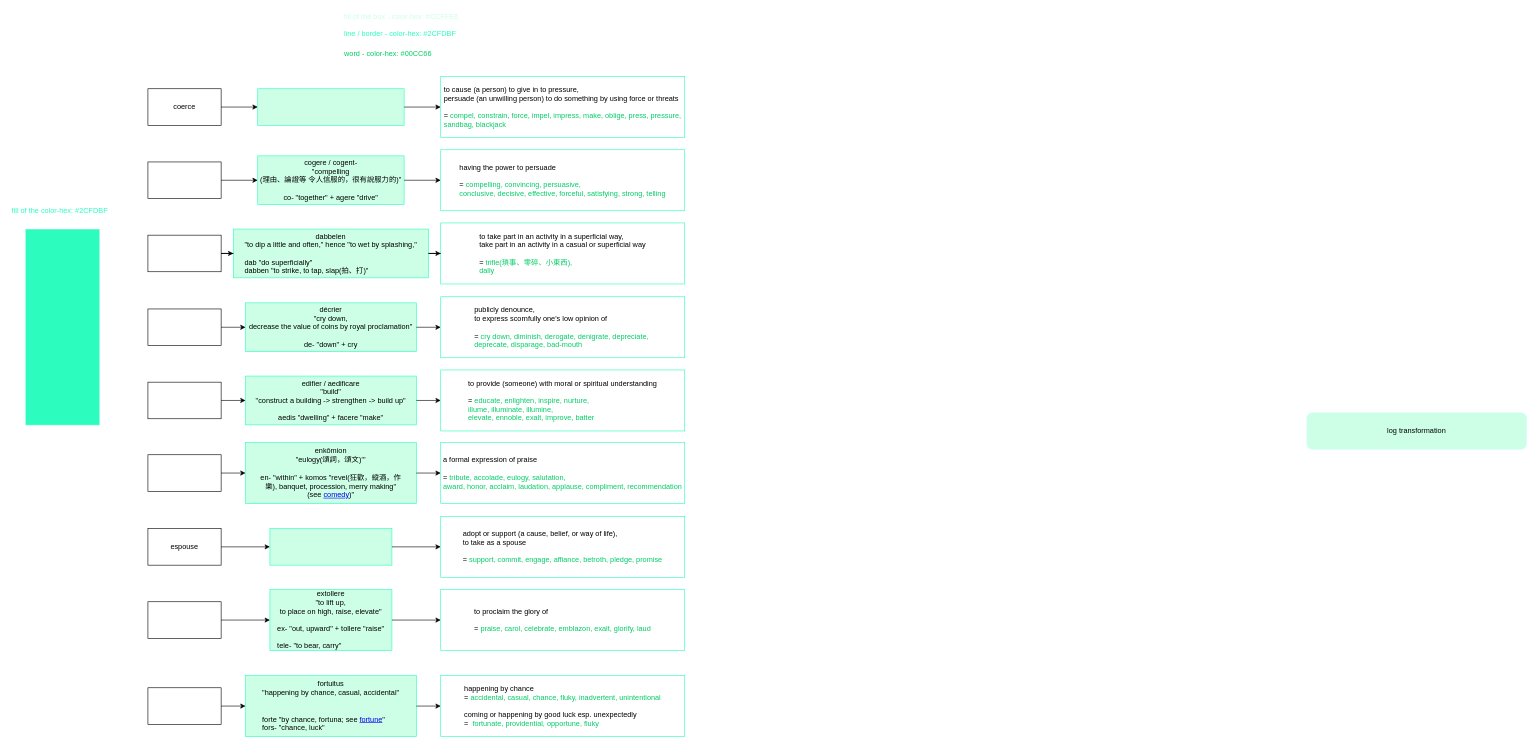
Image size: 1537x747. Some labels were removed from this diagram. The shapes that lost their labels are listed below. From the top down, each one's box as (x1, y1, x2, y2) in pixels, then its label:
(257, 88, 404, 125): coercere "restrain" co- "together" + arcere "restrain(阻止)"
(147, 161, 221, 199): cogent
(147, 235, 221, 272): dabble
(25, 229, 99, 425): p.33 coerce cogent dabble decry edify encomium espouse extol fortuitous
(147, 308, 221, 346): decry
(147, 382, 221, 419): edify
(147, 454, 221, 491): encomium
(269, 528, 392, 565): espouser / sponsare / spondere "take as a spouse / betrothed( 未婚夫；未婚妻 )"
(147, 601, 221, 638): extol
(147, 687, 221, 724): fortuitous
